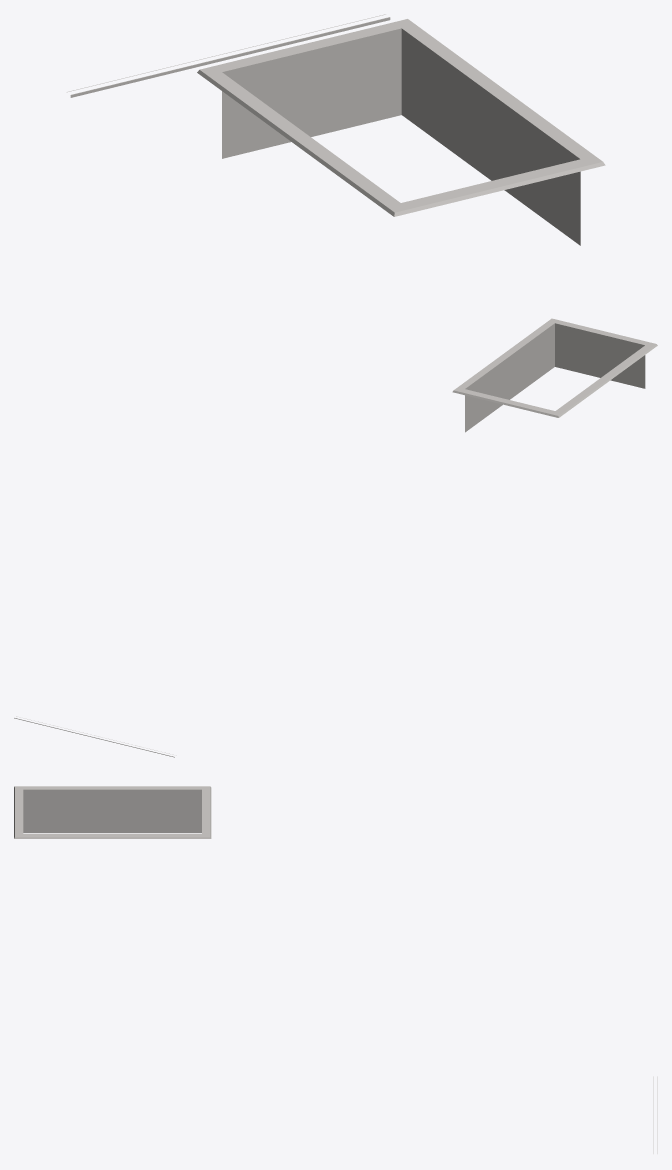
File: kd_stage_135ded_4_28.glb
3 renders of one model, top to bottom at view 1: azimuth 30°, elevation 25°; view 2: azimuth 150°, elevation 25°; view 3: azimuth 270°, elevation 25°, orthographic. The views are drawn at different scales.
Parts seen in each view (by area): view 1: kd_stage_135ded_4_28; view 2: kd_stage_135ded_4_28; view 3: kd_stage_135ded_4_28.
Part boxes in pixels (box(x1,y1,x2,y2)): kd_stage_135ded_4_28: box(66, 14, 605, 245); kd_stage_135ded_4_28: box(14, 318, 657, 757); kd_stage_135ded_4_28: box(14, 786, 657, 1153).
Size of the model in its own units: 3.99 by 2.58 by 7.
1 material, 1 textured.
